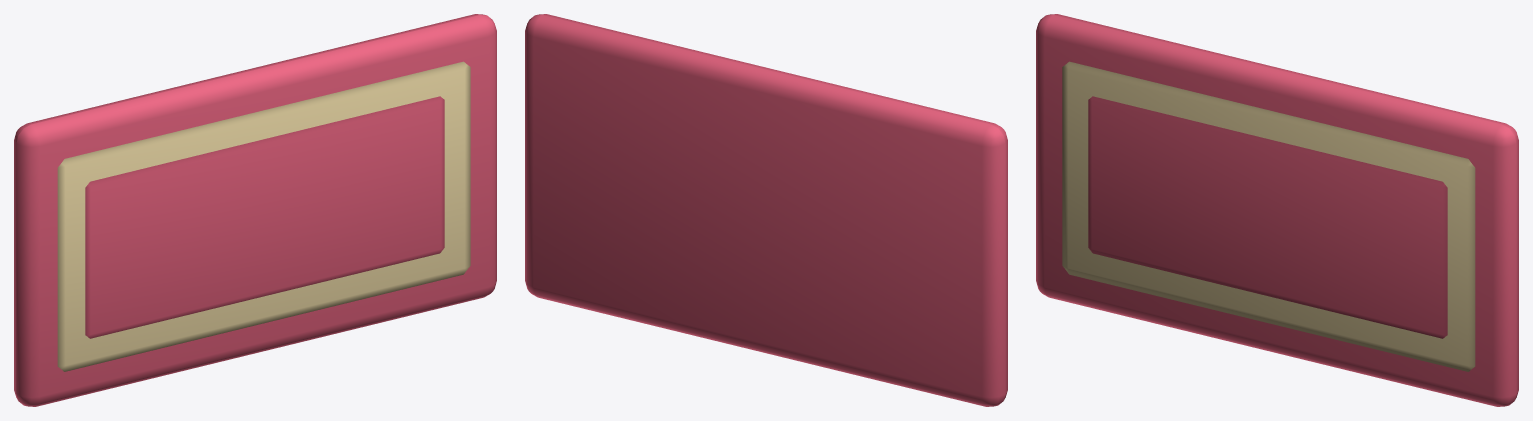
Rendered from gift-ivan.glb.
3 renders of one model, left to right at view 1: azimuth 30°, elevation 25°; view 2: azimuth 150°, elevation 25°; view 3: azimuth 330°, elevation 25°, orthographic.
Visible parts, largest first — view 1: gift-ivan; view 2: gift-ivan; view 3: gift-ivan.
Part boxes in pixels (<box>): gift-ivan: <box>14,14,496,406</box>; gift-ivan: <box>525,14,1007,406</box>; gift-ivan: <box>1036,14,1518,406</box>.
Bounding box in the file's own units: 0.8 × 0.45 × 0.055.
